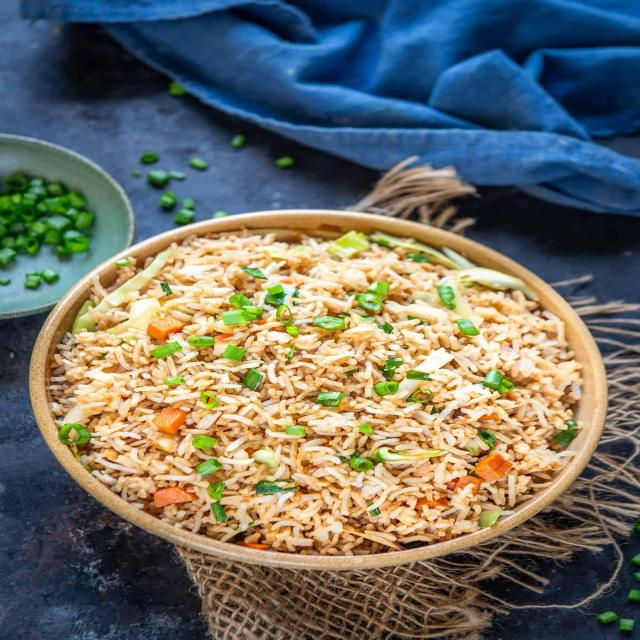Nasi Goreng: (48, 227, 585, 556)
